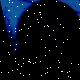Speed Limit -60-: (9, 0, 80, 71)
